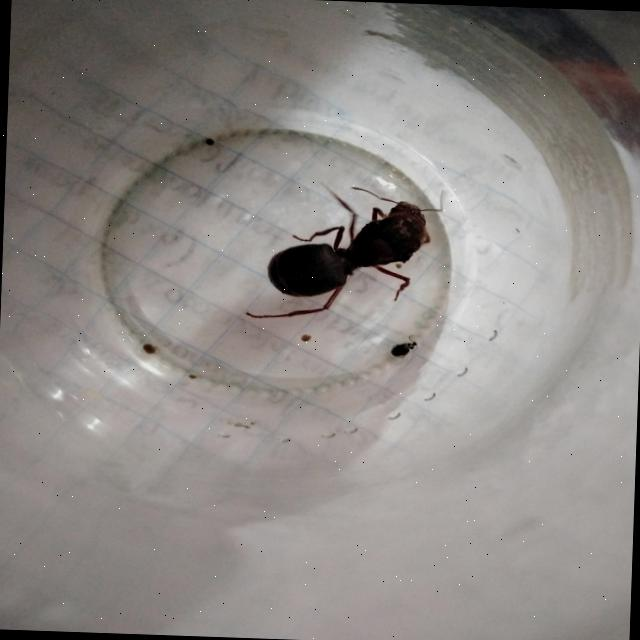Alive-Female-Dealate: (244, 178, 446, 324)
